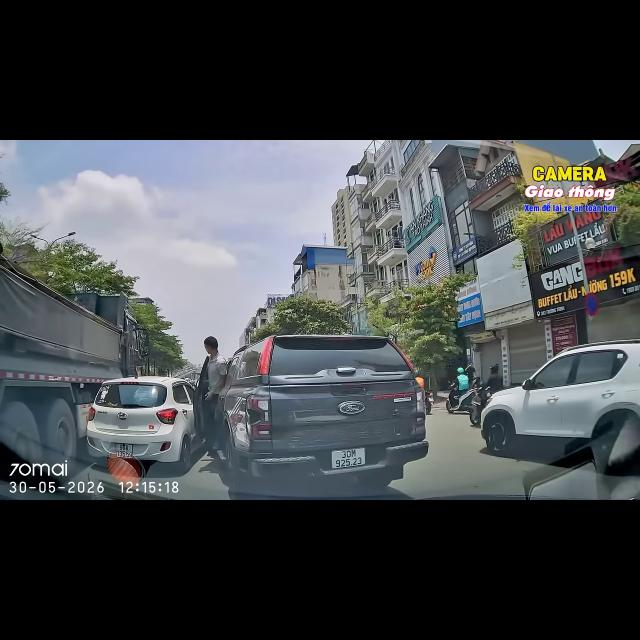car: (216, 335, 428, 491), (481, 340, 639, 466), (87, 376, 197, 472)
motorcycle: (446, 365, 478, 413), (469, 386, 491, 425), (446, 388, 476, 413), (425, 391, 433, 414)
truck: (0, 245, 148, 465)
